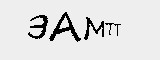А: (54, 10, 79, 42)
М: (83, 17, 103, 41)
Т: (112, 22, 122, 39), (105, 21, 113, 37)
Э: (26, 13, 48, 40)
